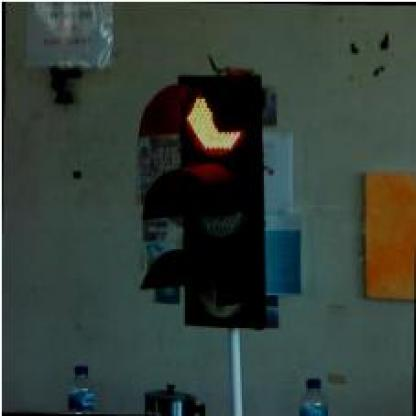red: (134, 74, 268, 329)
